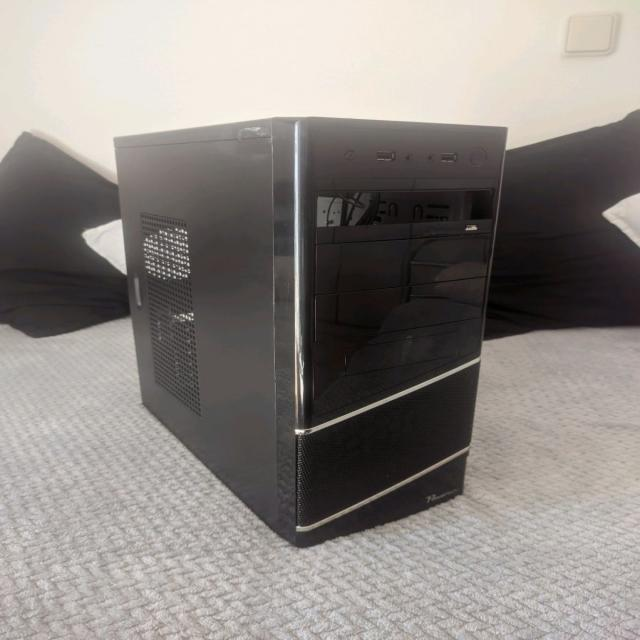Desktop-PC: (100, 94, 532, 544)
